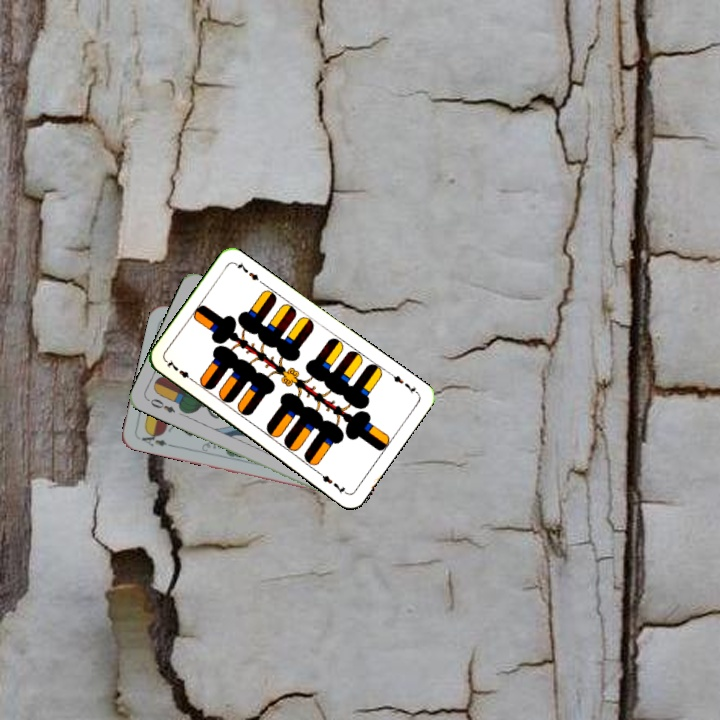E7: (162, 355, 197, 385), (385, 368, 421, 397)
EA: (138, 428, 175, 449)
EO: (143, 395, 178, 416)
